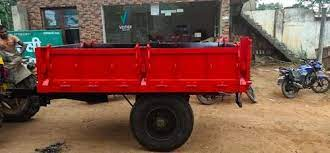wheel: (130, 102, 195, 152)
